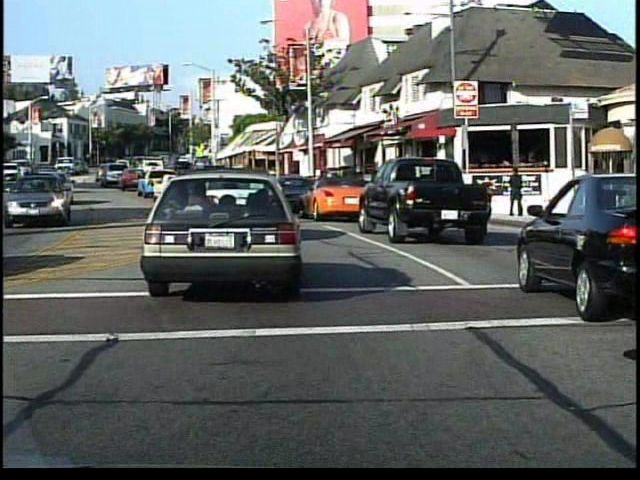person: (506, 167, 526, 223)
